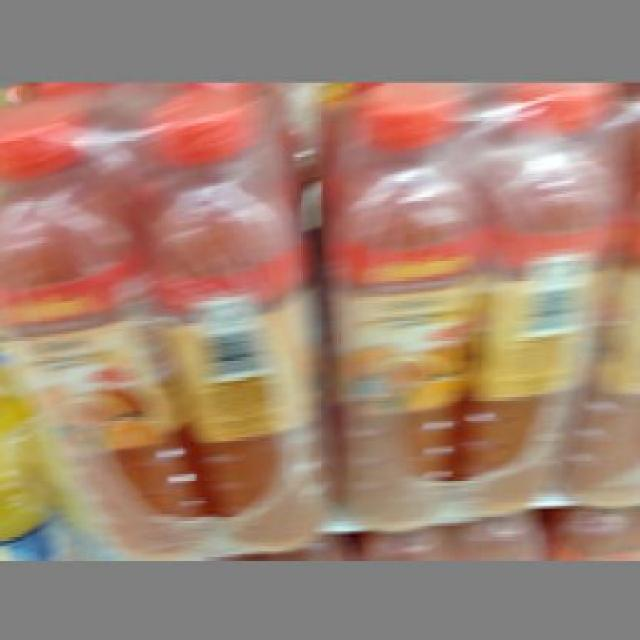Juice: (0, 105, 197, 538), (132, 91, 318, 532), (314, 82, 474, 512)
